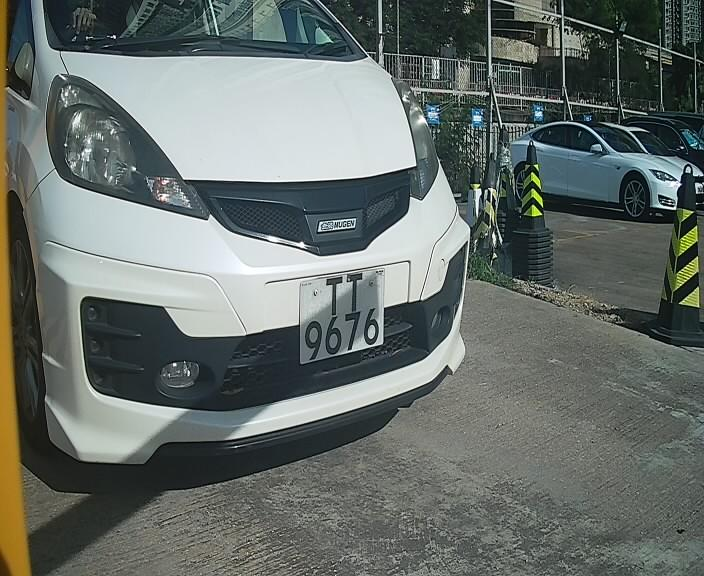Car: (1, 1, 510, 502)
License Plate: (290, 250, 400, 373)
